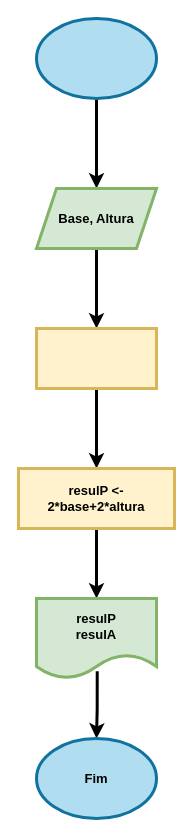
The diagram is 193 pixels wide and 837 high, and some of its shapes have lost their labels. Here are the shapes that lost their labels. From the top down, the centre of each, then its label:
At point 96,58: "Inicio".
At point 96,358: "resulA= base*altura".
